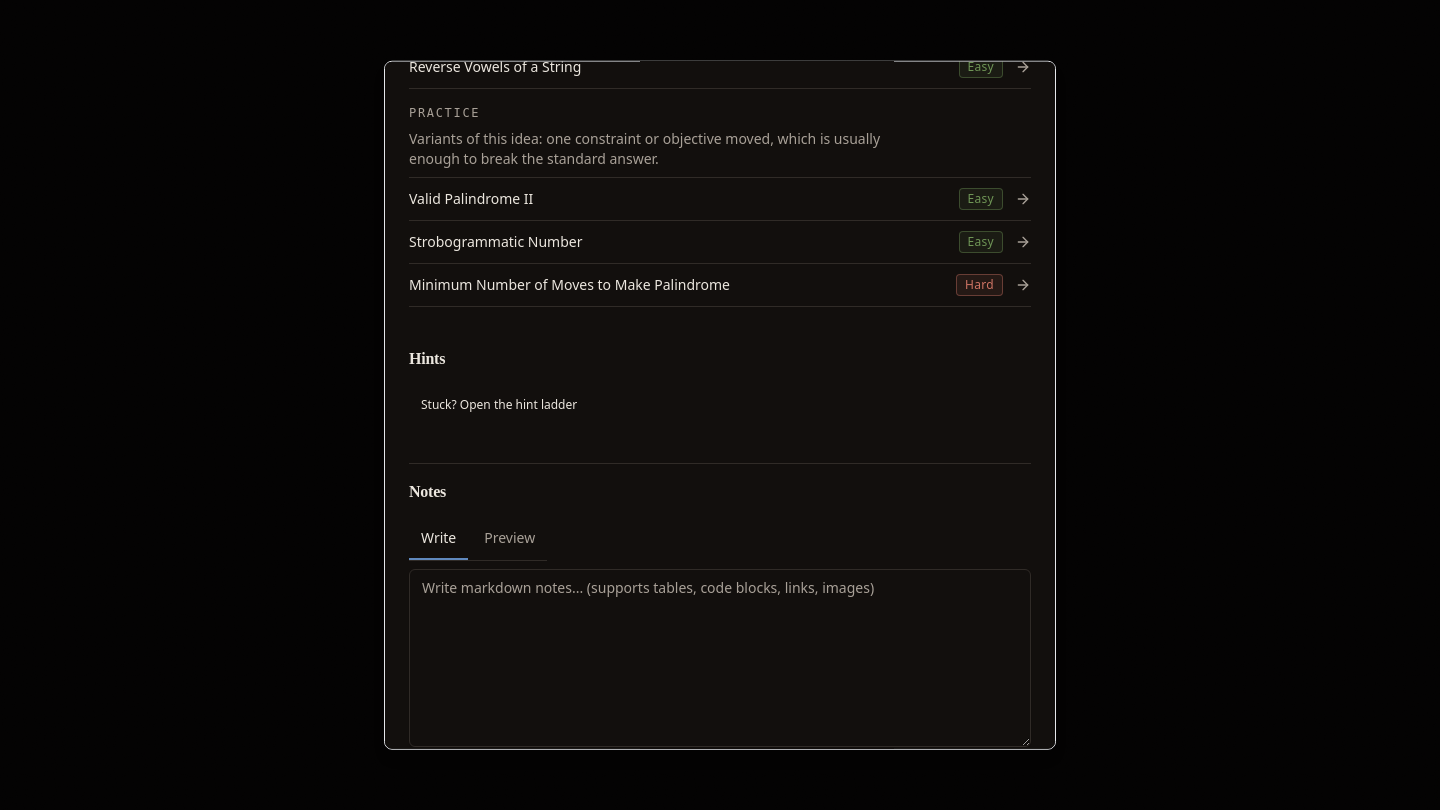
Test case: the hint ladder › the ladder is derived from the family, so rung 1 is the family’s own recognition signals
(page scrolled)
Click the button "Stuck? Open the hint ladder" at (499, 405), box [409,387,589,423]
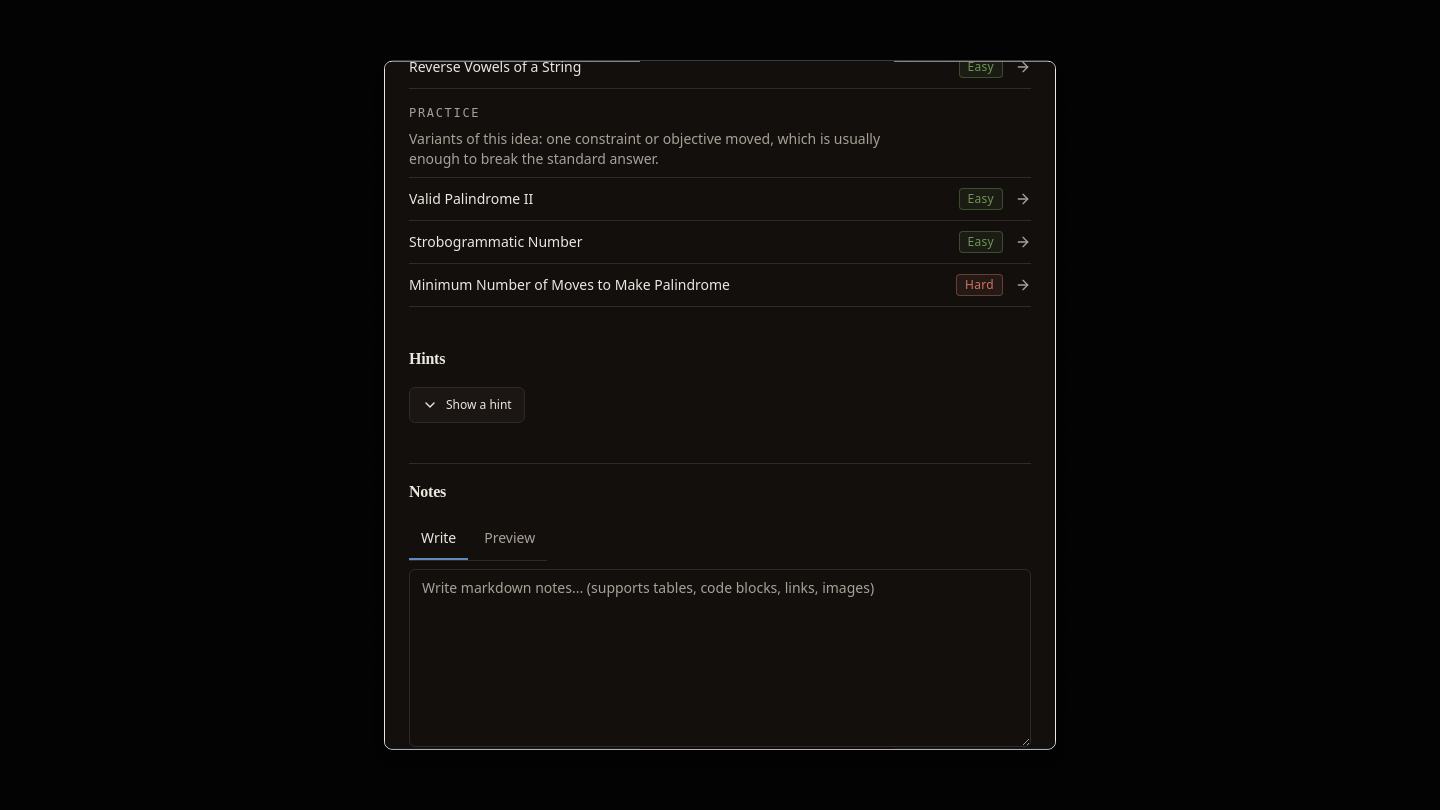
Click the button "Show a hint" at (467, 405), box [409,387,525,423]
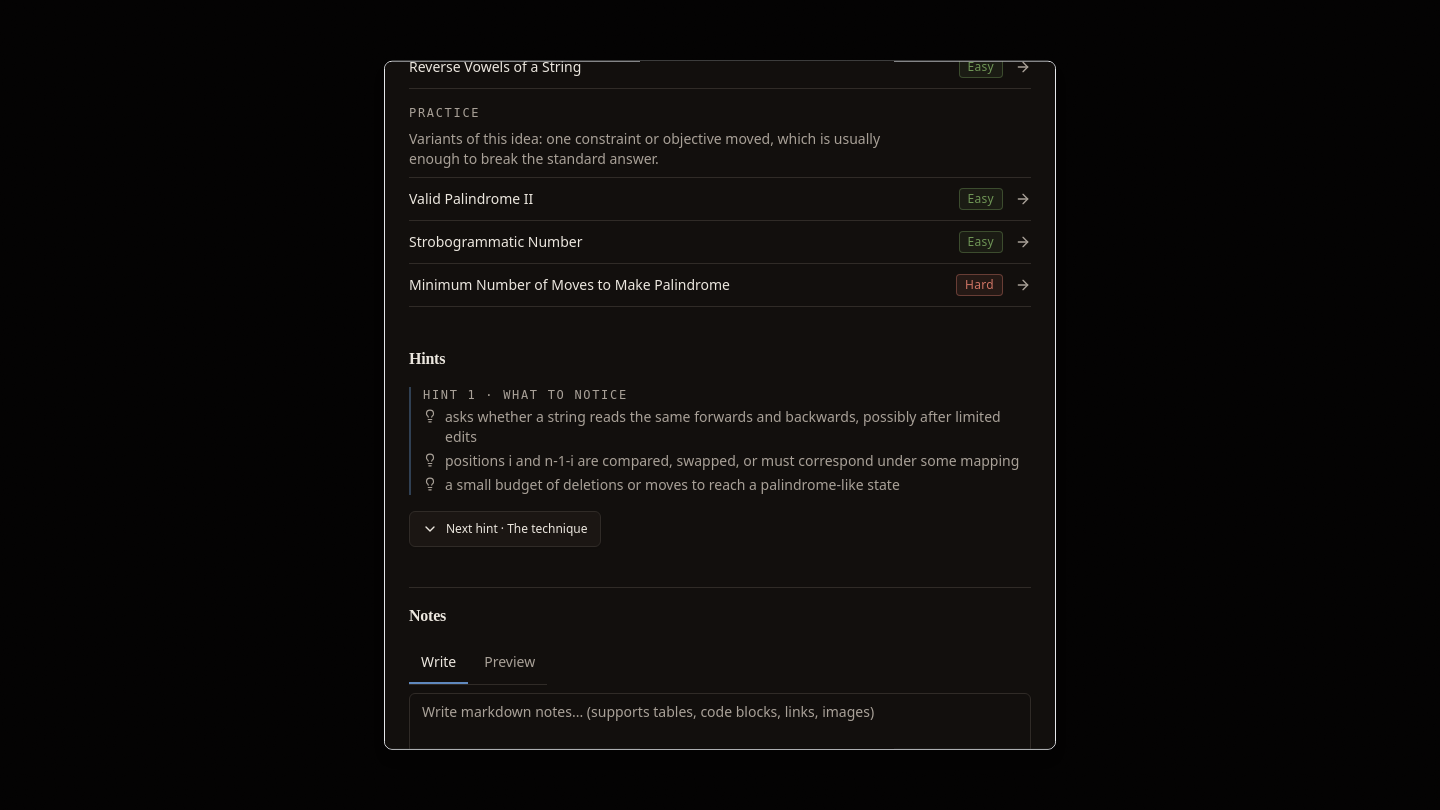
Expected: the text "Hint 1 · What to notice" is shown, [423,388,628,402]
Expected: the text "reads the same forwards and backwards" is shown, [445,407,1001,446]
